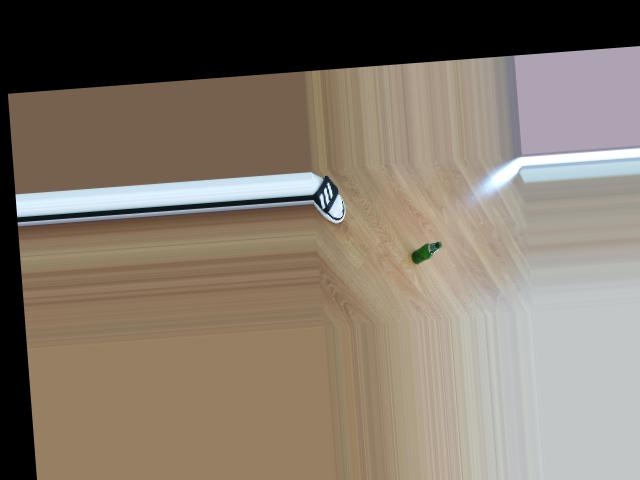beer: (410, 241, 441, 263)
